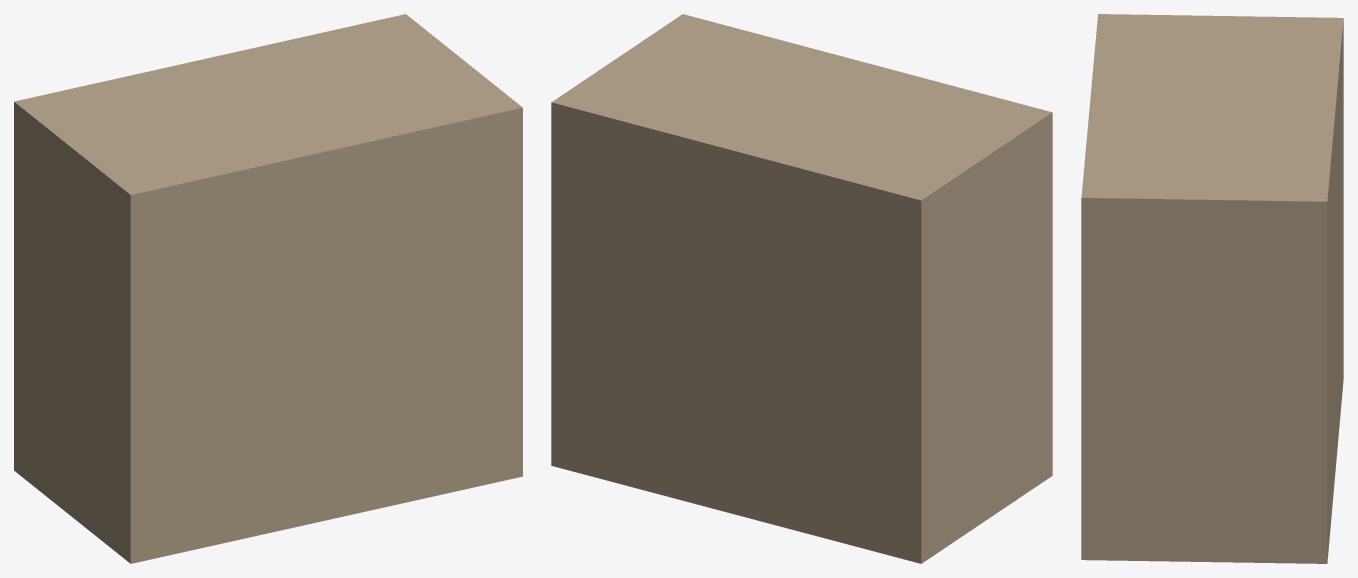
Rendered from bld_106415297.dae.
The picture shows the model from 3 angles, left to right: view 1: azimuth 30°, elevation 25°; view 2: azimuth 150°, elevation 25°; view 3: azimuth 270°, elevation 25°; orthographic projection.
Visible parts, largest first — view 1: bld_106415297; view 2: bld_106415297; view 3: bld_106415297.
Part boxes in pixels (x1,y1,x2,y2): bld_106415297: (14, 14, 522, 563); bld_106415297: (551, 14, 1052, 563); bld_106415297: (1081, 14, 1343, 563).
Size of the model in its own units: 8.89 by 5.25 by 8.
